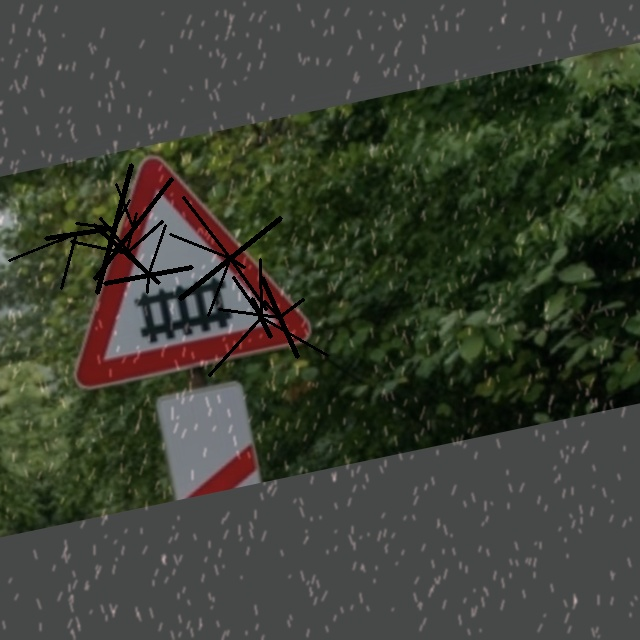Guarded_Level_Crossing: (39, 141, 307, 387)
